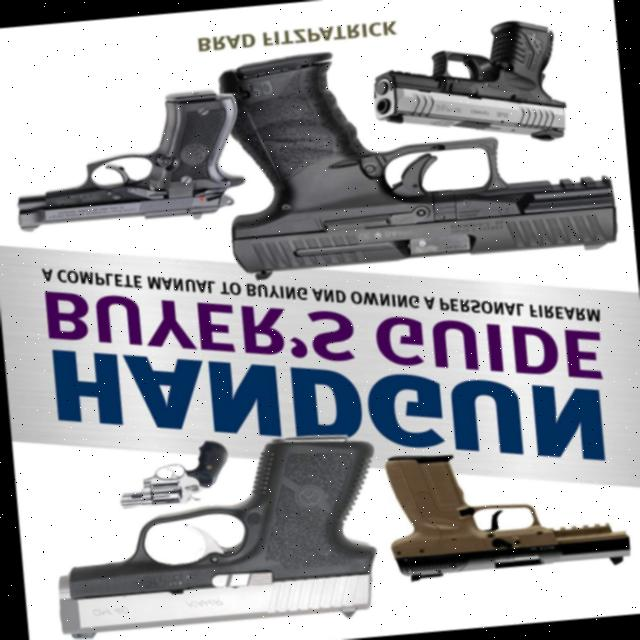Handgun: (204, 42, 636, 294), (37, 432, 399, 640), (376, 411, 640, 611), (9, 96, 250, 249), (376, 9, 604, 146), (119, 423, 254, 520)
